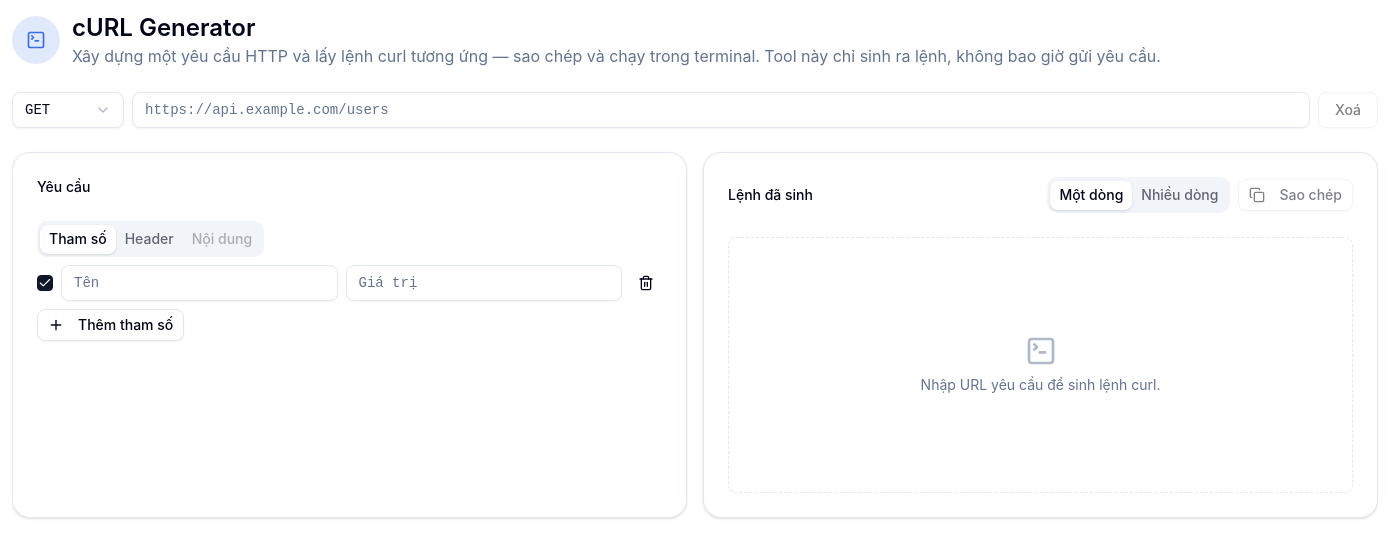
Scenario: CurlGeneratorScreen › shows an error in the output panel for an invalid URL
The width and height of the screenshot is (1390, 536).
Type "not-a-url" into the field named "URL yêu cầu" at (721, 110), box x1=132 y1=92 x2=1310 y2=128
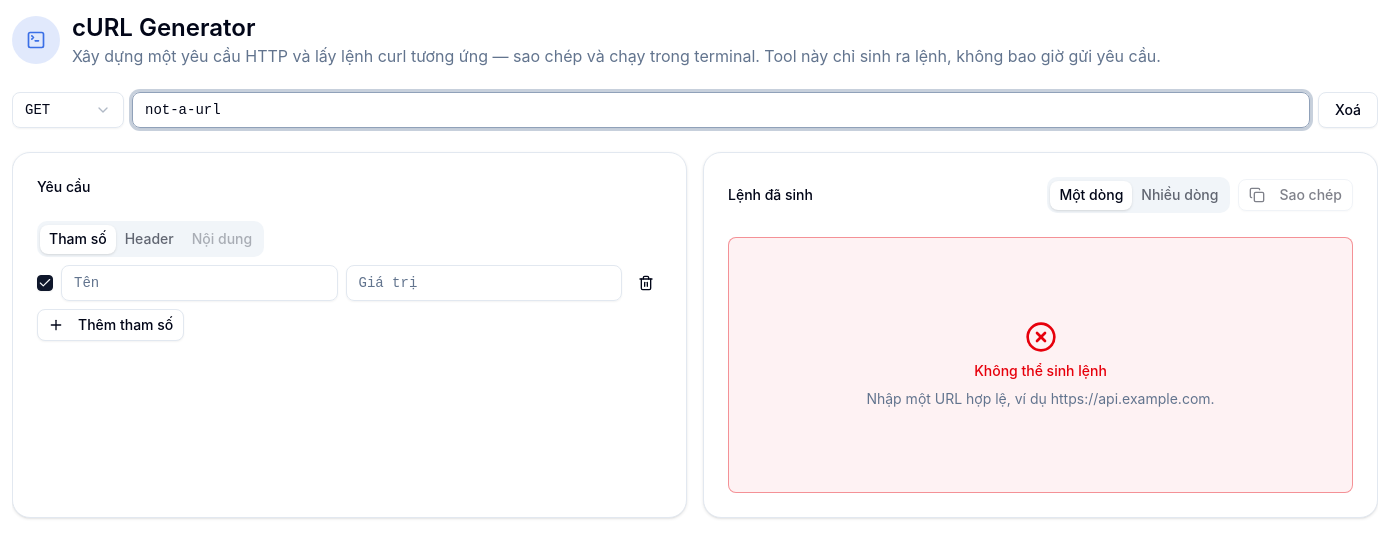
expect the message "Không thể sinh lệnh Nhập một URL hợp lệ, ví dụ https://api.example.com." is shown: met, box x1=728 y1=237 x2=1353 y2=493
expect the text "Nhập một URL hợp lệ, ví dụ https://api.example.com." is shown: met, box x1=866 y1=389 x2=1215 y2=409
